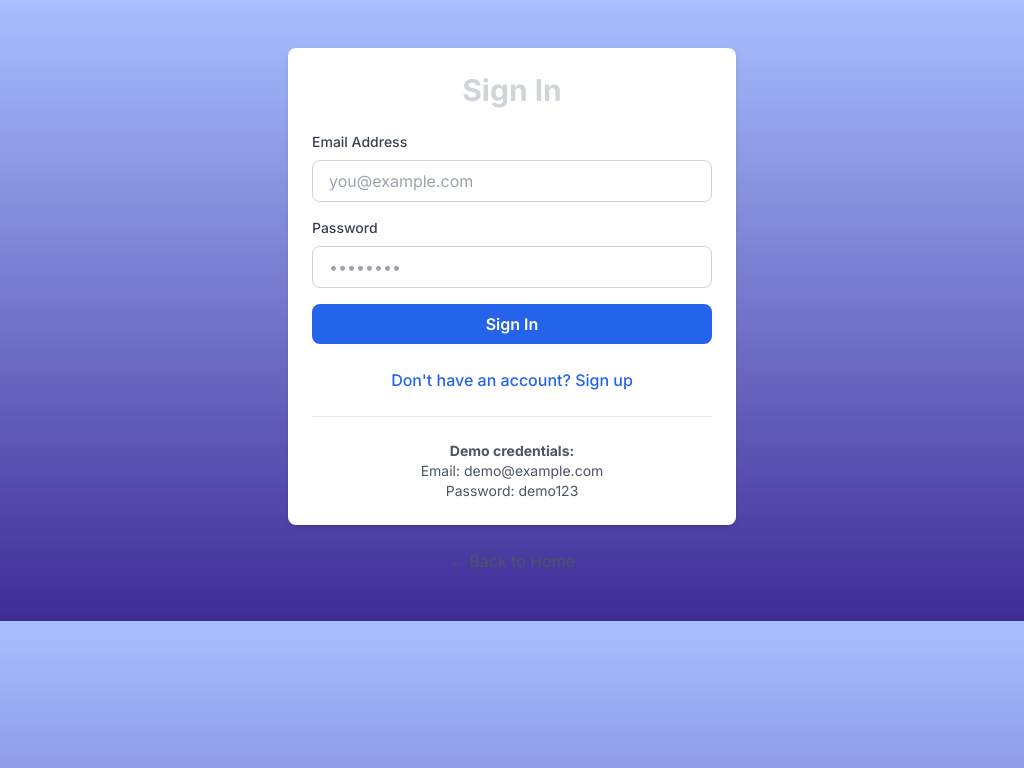
Scenario: LoginPage › Form Validation › shows email validation error for empty email
Click the button "Sign In" at (512, 324), box [312, 304, 712, 344]
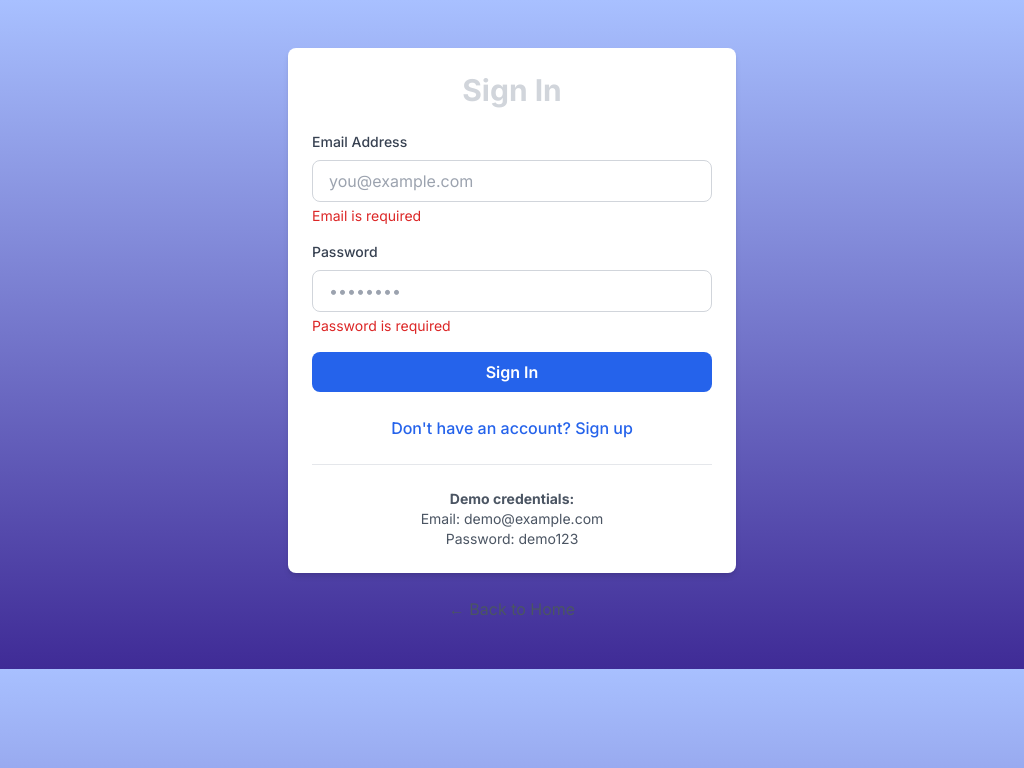
Now the text "Email is required" is shown, box [312, 207, 421, 224]
